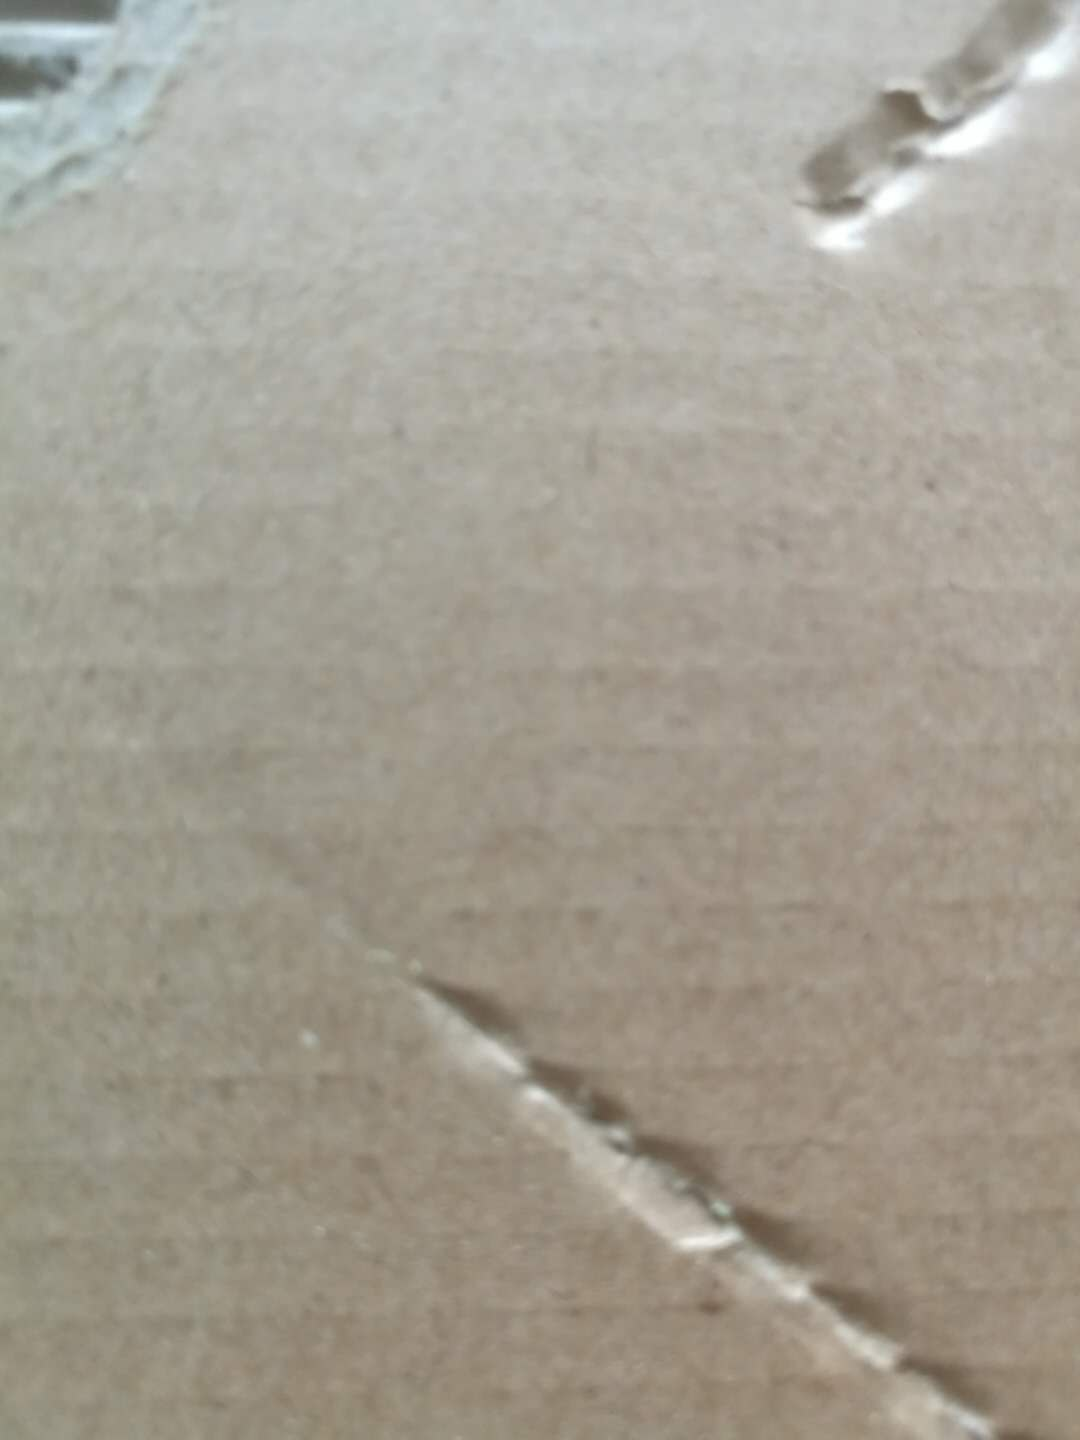defect: (259, 842, 1074, 1440), (765, 1, 1080, 276), (2, 2, 245, 256)
